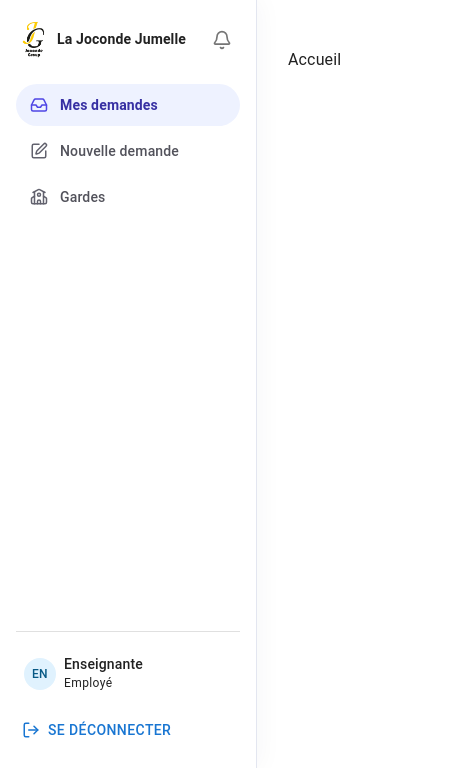
Test: AppLayout — lien du bloc profil (spec 005, FR-001) › desktop : le bloc profil est un lien vers /profil, nom accessible complet
Click the link named "Mon profil : ". click: (83, 672)
box: [23,655,143,690]
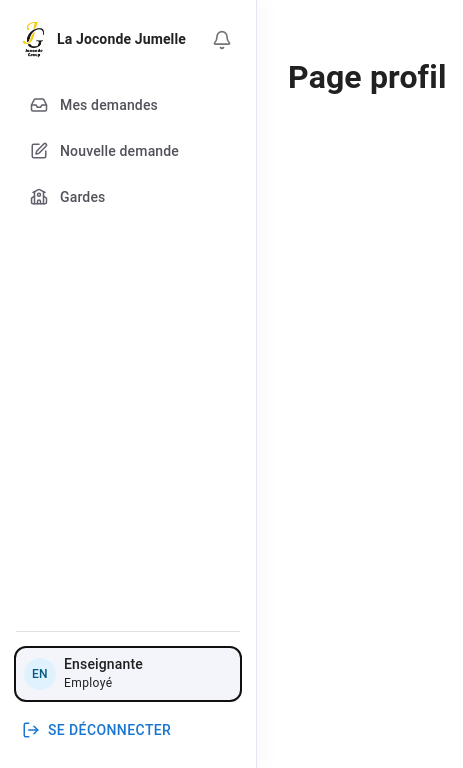
Expected: the heading "Page profil" is shown, [288,58,446,96]
